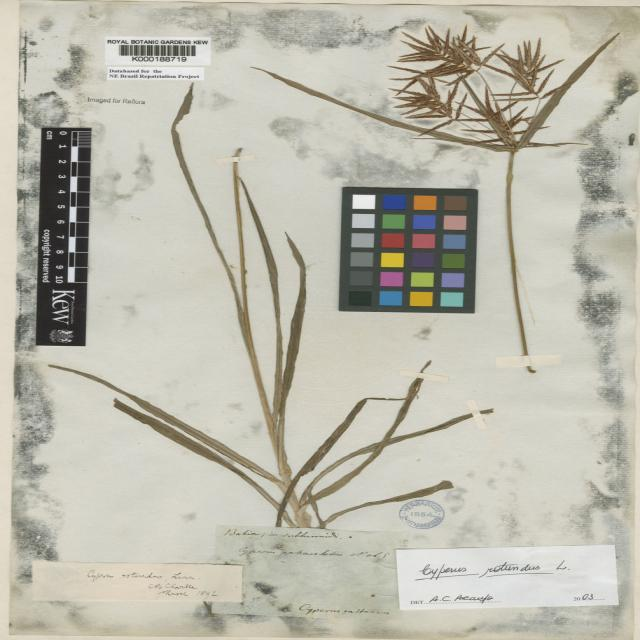cyperus: (377, 28, 568, 152)
